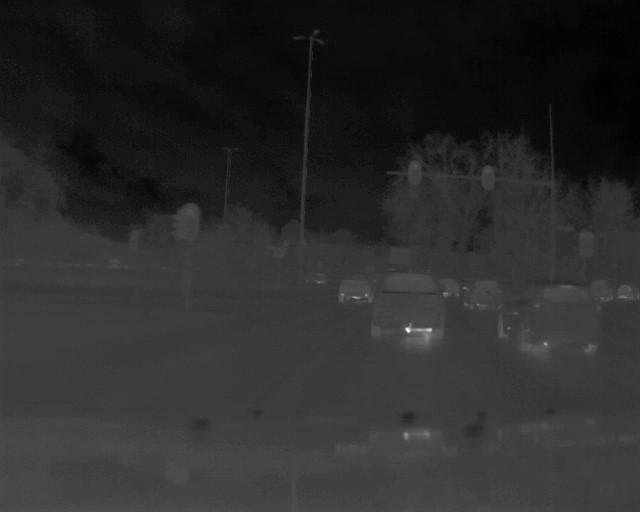car: (484, 275, 609, 359), (367, 266, 453, 350), (339, 270, 373, 308)
